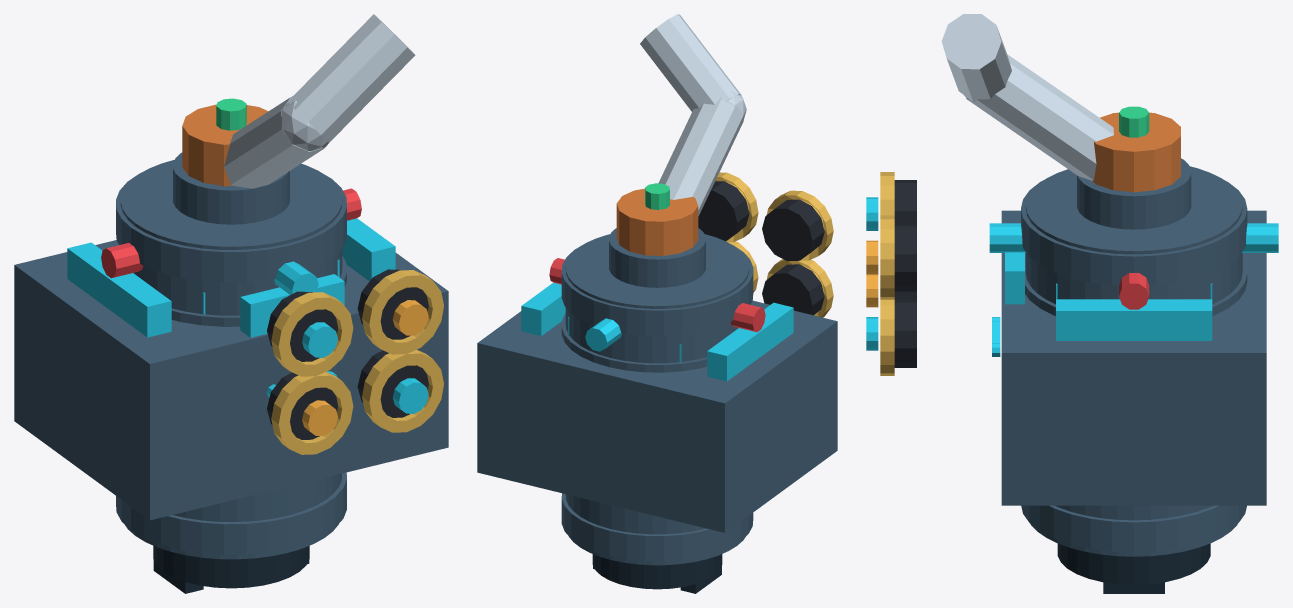
Rendered from 46_L82_TriaxialRFFieldStrengthProbe.fbx.
3 views of the same model, side by side, from view 1: azimuth 30°, elevation 25°; view 2: azimuth 150°, elevation 25°; view 3: azimuth 270°, elevation 25° (orthographic). The views are drawn at different scales.
Parts seen in each view (by area): view 1: TriaxialRFFieldStrengthProbe, TriaxialRFFieldStrengthProbe_Part_0029, TriaxialRFFieldStrengthProbe_Part_0030, TriaxialRFFieldStrengthProbe_Part_0034; view 2: TriaxialRFFieldStrengthProbe, TriaxialRFFieldStrengthProbe_Part_0029, TriaxialRFFieldStrengthProbe_Part_0030, TriaxialRFFieldStrengthProbe_Part_0034; view 3: TriaxialRFFieldStrengthProbe, TriaxialRFFieldStrengthProbe_Part_0029, TriaxialRFFieldStrengthProbe_Part_0034.
Part boxes in pixels (box(x1,y1,x2,y2)): TriaxialRFFieldStrengthProbe: box(101, 14, 443, 593); TriaxialRFFieldStrengthProbe_Part_0029: box(14, 240, 448, 520); TriaxialRFFieldStrengthProbe_Part_0030: box(67, 242, 171, 337); TriaxialRFFieldStrengthProbe_Part_0034: box(342, 218, 395, 281); TriaxialRFFieldStrengthProbe: box(549, 14, 833, 593); TriaxialRFFieldStrengthProbe_Part_0029: box(477, 300, 837, 532); TriaxialRFFieldStrengthProbe_Part_0030: box(707, 302, 793, 381); TriaxialRFFieldStrengthProbe_Part_0034: box(521, 282, 565, 335); TriaxialRFFieldStrengthProbe: box(866, 14, 1278, 593); TriaxialRFFieldStrengthProbe_Part_0029: box(1001, 210, 1266, 505); TriaxialRFFieldStrengthProbe_Part_0034: box(1056, 299, 1212, 340).
Size of the model in its own units: 56 by 106 by 68.47.
